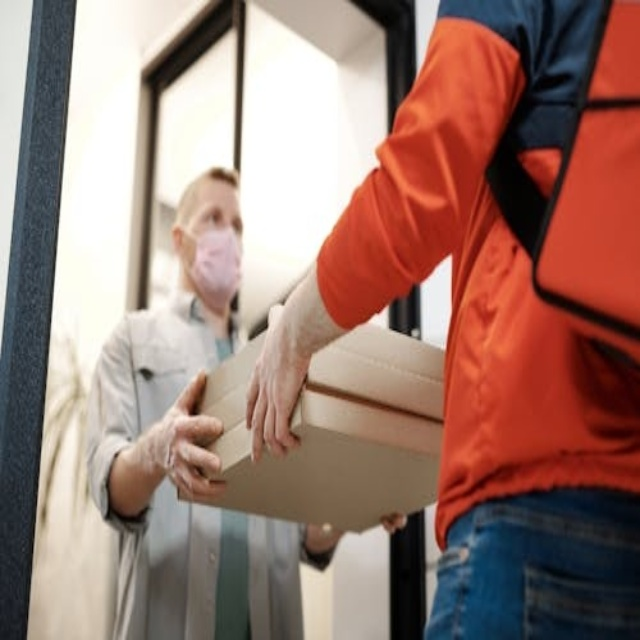Mascara: (186, 225, 242, 304)
Sin_gafas: (192, 200, 246, 238)
Sin_guantes: (150, 350, 228, 513), (246, 296, 314, 467)
